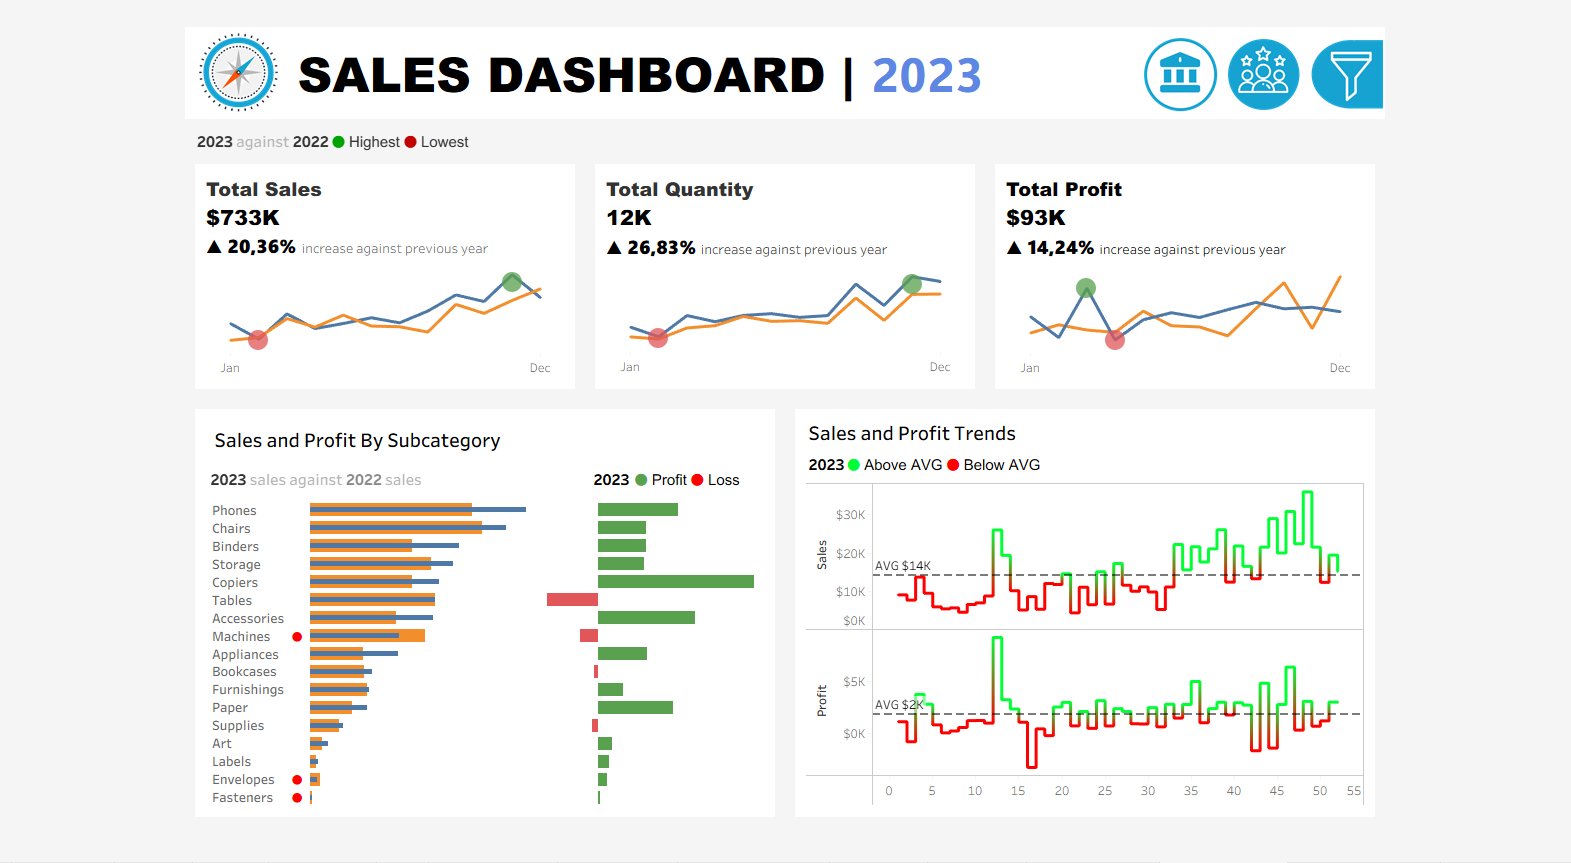

What the dashboard file says about the page in this screenshot:
{"tool":"tableau","page":{"name":"Sales Dashboard","canvas":[1200,800],"ordinal":1},"visuals":[{"type":"image","param":"Image/Icon - Logo.png","box":[0,0,106,92]},{"type":"text","box":[106,0,1094,92]},{"type":"dashboard-object","box":[954,1,83,92]},{"type":"dashboard-object","box":[1037,1,83,92]},{"type":"dashboard-object","box":[1120,1,82,92]},{"type":"worksheet","title":"Legend of Sparklines","mark":"Automatic","box":[0,92,1200,45]},{"type":"text","box":[979,102,211,31]},{"type":"parameter","param":"[Parameters].[Parameter 1]","box":[979,133,211,63]},{"type":"worksheet","title":"Sales Sparkline","mark":"Automatic","rows":["Calculation_1415085010288640"],"cols":["Order Date"],"box":[0,137,400,235]},{"type":"worksheet","title":"Profit Sparkline","mark":"Line","rows":["Calculation_0619863665819651"],"cols":["Order Date"],"box":[400,137,400,235]},{"type":"worksheet","title":"Total Profit","mark":"Automatic","rows":["Calculation_0619863705337870"],"cols":["Order Date"],"box":[800,137,400,235]},{"type":"blank","box":[979,196,211,32]},{"type":"text","box":[979,228,211,29]},{"type":"filter","title":"Sales Sparkline","param":"[federated.18nfv5z19ty0oz13mfh201sb8dke].[none:Category:nk]","box":[979,257,211,52]},{"type":"filter","title":"Sales Sparkline","param":"[federated.18nfv5z19ty0oz13mfh201sb8dke].[none:Sub-Category:nk]","box":[979,309,211,52]},{"type":"blank","box":[979,361,211,48]},{"type":"text","box":[17,389,566,46]},{"type":"text","box":[617,389,566,31.7]},{"type":"text","box":[979,409,211,29]},{"type":"text","box":[617,420.7,566,31.7]},{"type":"worksheet","title":"Subcat Legend","mark":"Automatic","box":[17,435,385,35]},{"type":"text","box":[402,435,181,35]},{"type":"filter","title":"Sales Sparkline","param":"[federated.18nfv5z19ty0oz13mfh201sb8dke].[none:Region:nk]","box":[979,438,211,52]},{"type":"worksheet","title":"Weekly Trends","mark":"Automatic","rows":["Calculation_0715245500379136","Calculation_0619863703179274"],"cols":["Order Date"],"box":[617,452.4,566,330.6]},{"type":"worksheet","title":"Subcategry Comparison","mark":"Bar","rows":["Sub-Category","Calculation_2492057312407552"],"cols":["2023 Sales (copy)_0715245501194241","Calculation_0715245500379136","Calculation_0619863703179274"],"box":[17,470,566,312.9]},{"type":"filter","title":"Sales Sparkline","param":"[federated.18nfv5z19ty0oz13mfh201sb8dke].[none:State:nk]","box":[979,490,211,52]},{"type":"filter","title":"Sales Sparkline","param":"[federated.18nfv5z19ty0oz13mfh201sb8dke].[none:City:nk]","box":[979,542,211,52]}]}

Visuals, with their boxes on the page's 1200x800 design canvas (x1, y1, x2, y2). These are canvas units, not pixel positions in the 1571x863 screenshot, which may show the page scaled, cropped or inside an application window:
image: 0, 0, 106, 92
text: 106, 0, 1200, 92
dashboard-object: 954, 1, 1037, 93
dashboard-object: 1037, 1, 1120, 93
dashboard-object: 1120, 1, 1202, 93
"Legend of Sparklines" worksheet: 0, 92, 1200, 137
text: 979, 102, 1190, 133
parameter: 979, 133, 1190, 196
"Sales Sparkline" worksheet: 0, 137, 400, 372
"Profit Sparkline" worksheet (Line marks): 400, 137, 800, 372
"Total Profit" worksheet: 800, 137, 1200, 372
blank: 979, 196, 1190, 228
text: 979, 228, 1190, 257
"Sales Sparkline" filter: 979, 257, 1190, 309
"Sales Sparkline" filter: 979, 309, 1190, 361
blank: 979, 361, 1190, 409
text: 17, 389, 583, 435
text: 617, 389, 1183, 421
text: 979, 409, 1190, 438
text: 617, 421, 1183, 452
"Subcat Legend" worksheet: 17, 435, 402, 470
text: 402, 435, 583, 470
"Sales Sparkline" filter: 979, 438, 1190, 490
"Weekly Trends" worksheet: 617, 452, 1183, 783
"Subcategry Comparison" worksheet (Bar marks): 17, 470, 583, 783
"Sales Sparkline" filter: 979, 490, 1190, 542
"Sales Sparkline" filter: 979, 542, 1190, 594
